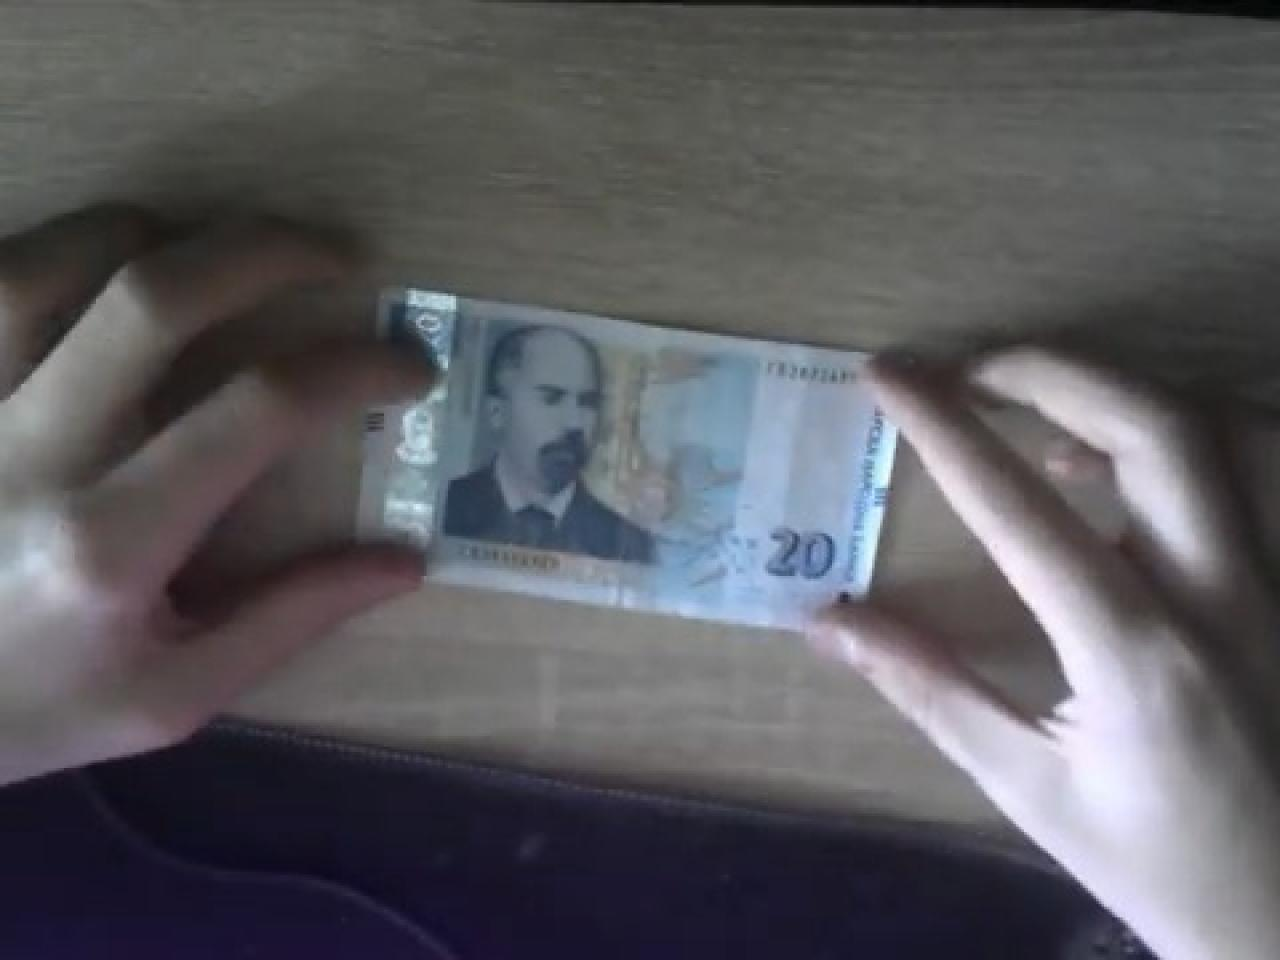20leva: (365, 290, 899, 626)
